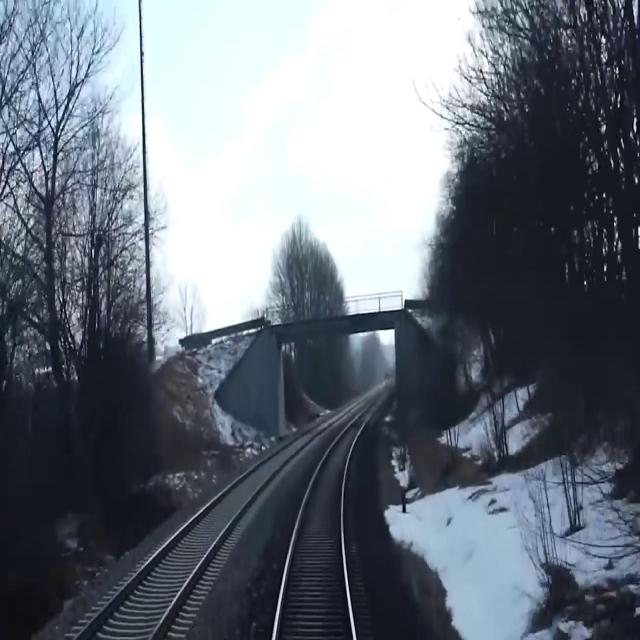rail-track: (82, 431, 312, 639), (276, 395, 381, 639)
